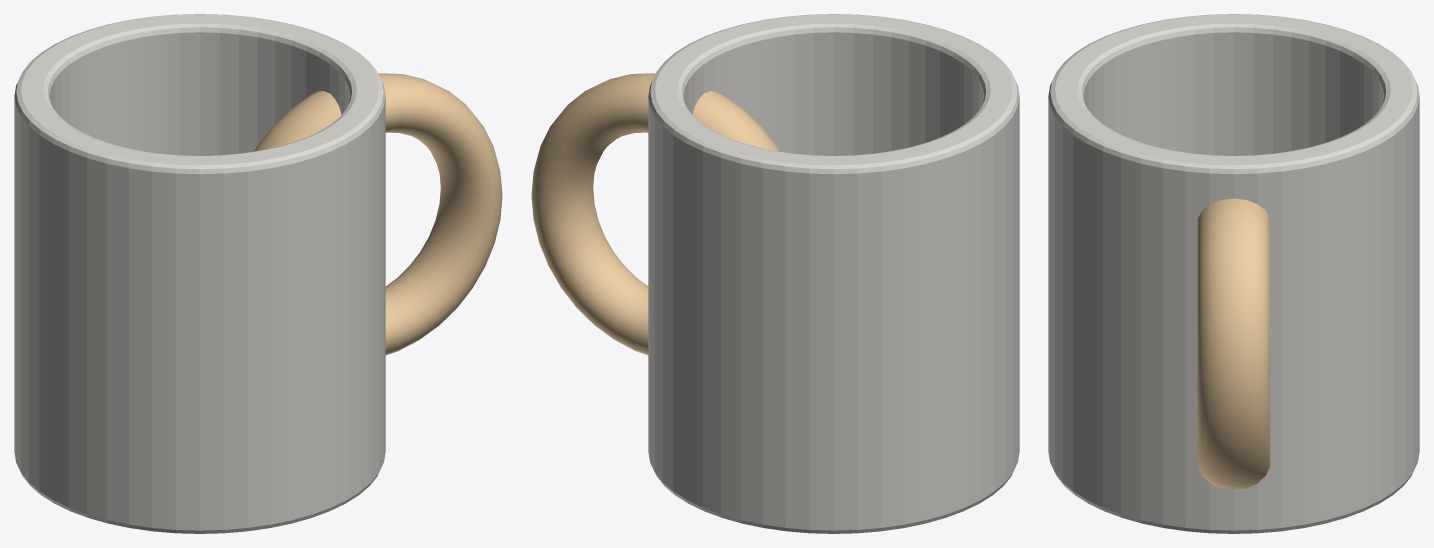
File: p2s_ceramic_mug.glb
3 views of the same model, side by side, from view 1: azimuth 30°, elevation 25°; view 2: azimuth 150°, elevation 25°; view 3: azimuth 270°, elevation 25° (orthographic).
Visible parts, largest first — view 1: MugBody, Torus; view 2: MugBody, Torus; view 3: MugBody, Torus.
Boxes of the visible parts, x1,y1,x2,y2 form: MugBody: [14, 14, 385, 533]; Torus: [254, 73, 502, 354]; MugBody: [648, 14, 1019, 533]; Torus: [531, 73, 779, 354]; MugBody: [1048, 14, 1419, 533]; Torus: [1197, 198, 1270, 489].
Size of the model in its own units: 0.1195 by 0.092 by 0.084.
